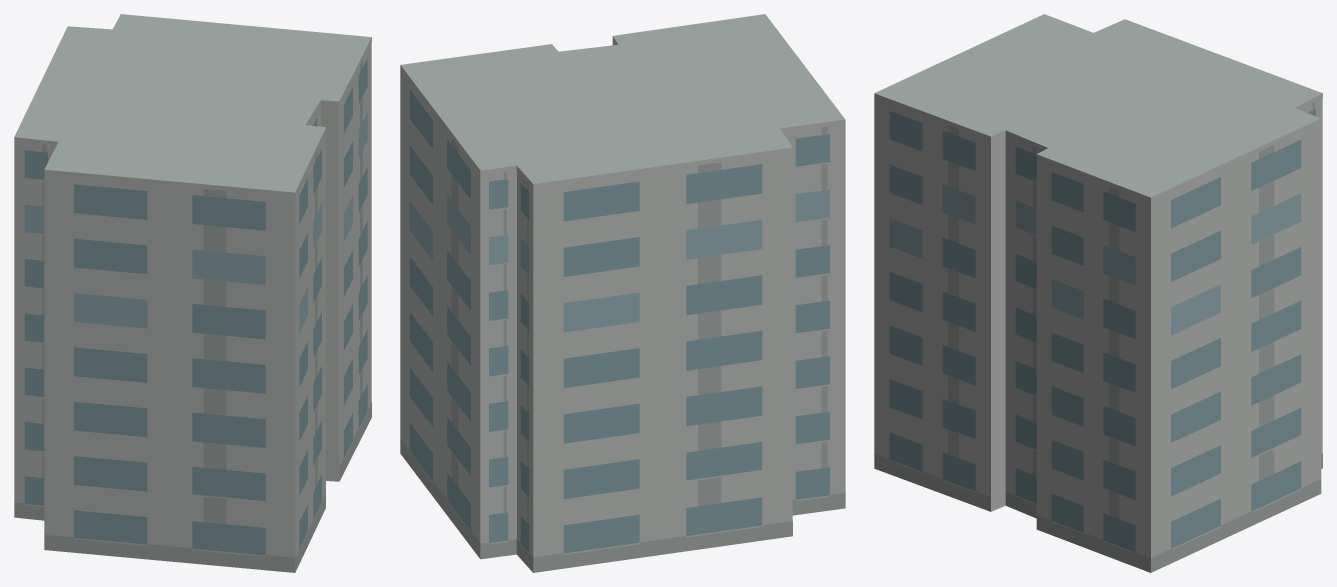
File: survey-upis-32711261.glb
3 views of the same model, side by side, from view 1: azimuth 30°, elevation 25°; view 2: azimuth 150°, elevation 25°; view 3: azimuth 270°, elevation 25° (orthographic). The views are drawn at different scales.
Visible parts, largest first — view 1: survey-upis-32711261.tmp; view 2: survey-upis-32711261.tmp; view 3: survey-upis-32711261.tmp.
Part boxes in pixels (box(x1,y1,x2,y2)): survey-upis-32711261.tmp: box(14, 14, 371, 572); survey-upis-32711261.tmp: box(400, 14, 845, 572); survey-upis-32711261.tmp: box(874, 14, 1322, 572).
Size of the model in its own units: 21.15 by 20.15 by 21.83.
